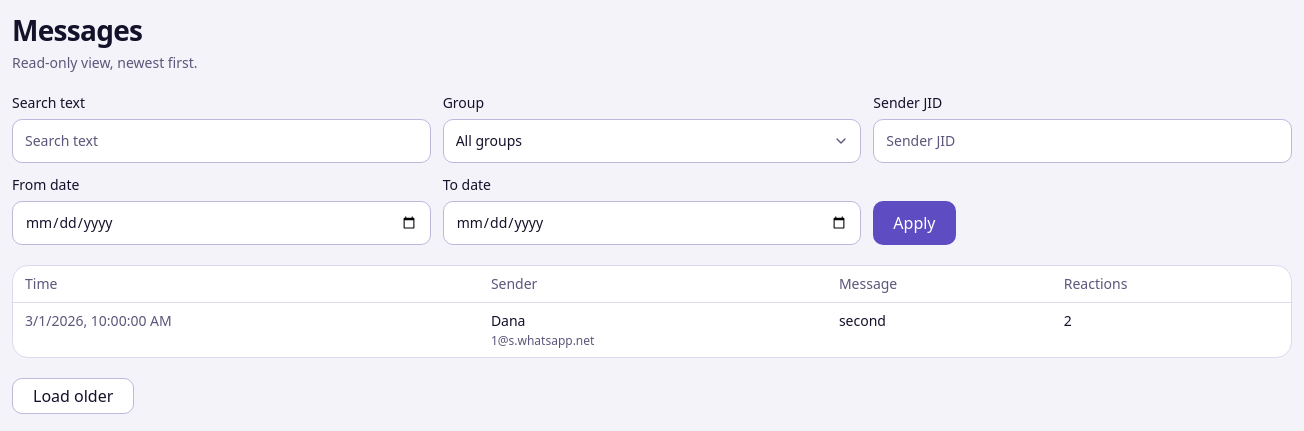
Test: Messages page › shows messages and appends older ones with the cursor
expect the text "second" is shown: met, box 839,311 -> 886,331
Click the button "Load older": (73, 396) 12,378 -> 134,414
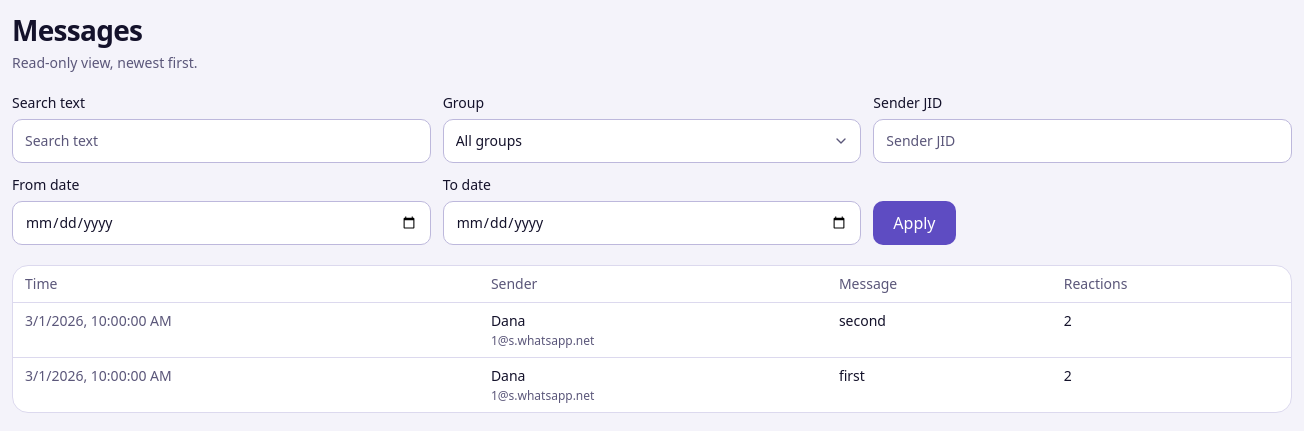
expect the text "second" is shown: met, box 839,311 -> 886,331
expect the text "first" is shown: met, box 839,366 -> 865,386
expect the button "Load older" is gone: met
